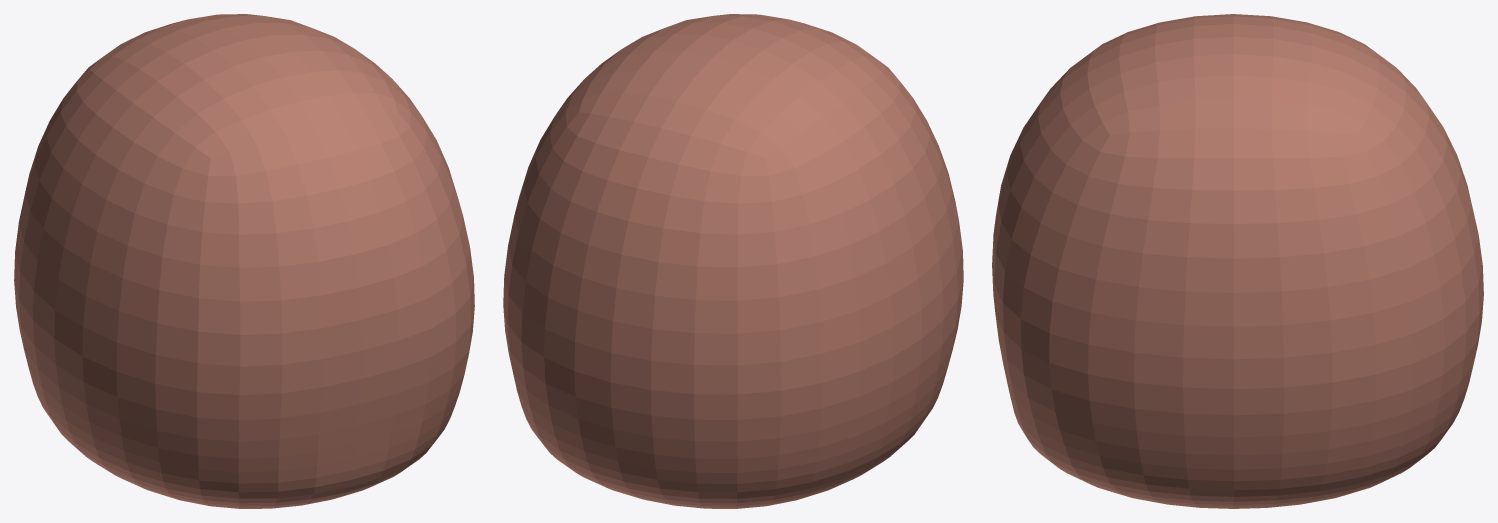
Rendered from Head.glb.
The picture shows the model from 3 angles, left to right: view 1: azimuth 30°, elevation 25°; view 2: azimuth 150°, elevation 25°; view 3: azimuth 270°, elevation 25°; orthographic projection. The views are drawn at different scales.
Parts seen in each view (by area): view 1: BaseHead; view 2: BaseHead; view 3: BaseHead.
Part boxes in pixels (box(x1,y1,x2,y2)): BaseHead: box(14, 14, 474, 508); BaseHead: box(503, 14, 963, 508); BaseHead: box(992, 14, 1483, 508).
Size of the model in its own units: 0.9228 by 0.974 by 1.02.
